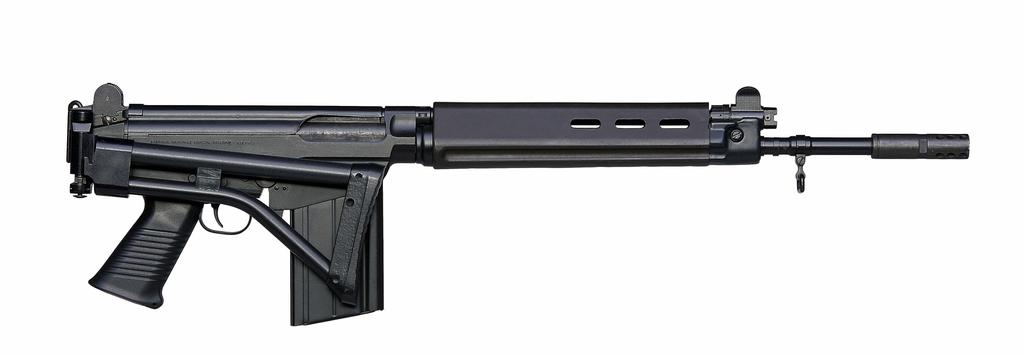Shotgun: (66, 82, 971, 327)
